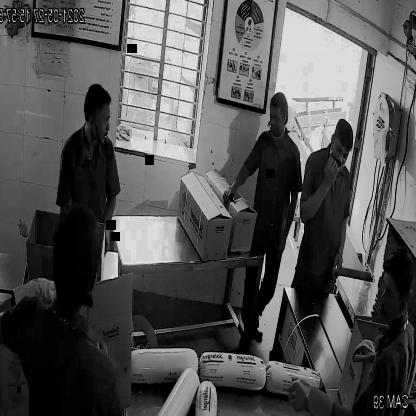no_goggles: (327, 139, 356, 165)
